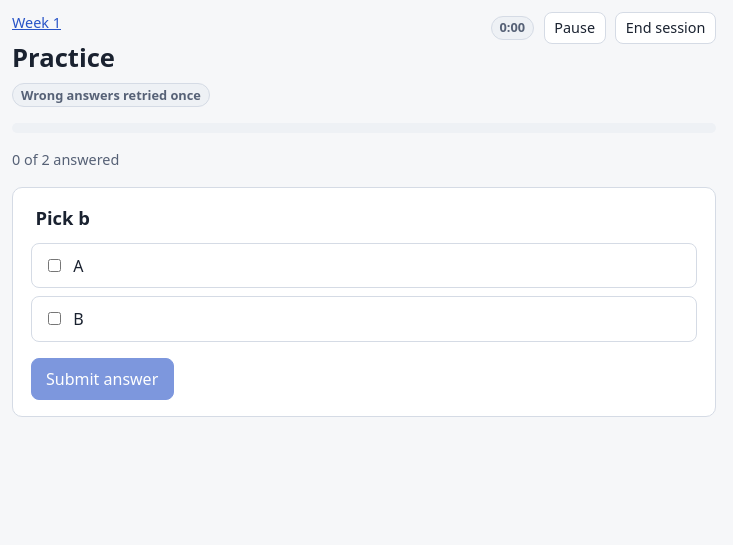
Test: requeue mode › does not mark any option right or wrong when only the verdict is known
Click the checkbox labelled "A".
click(54, 265)  # box [48, 259, 61, 272]
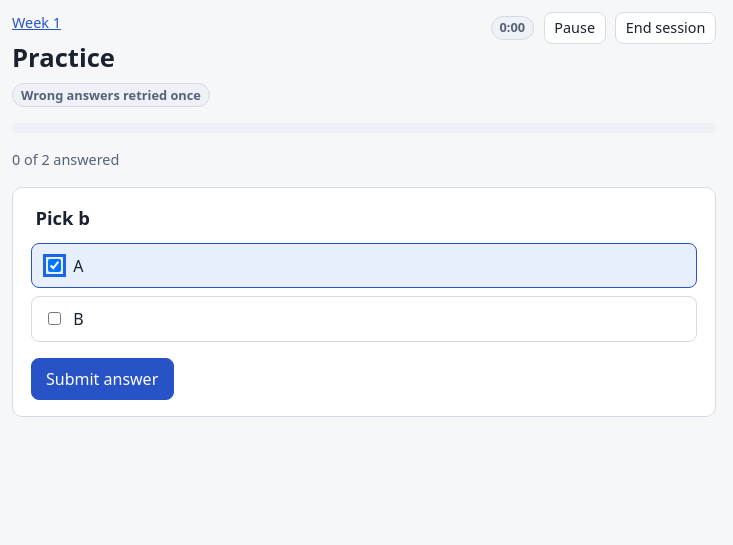
Click the button "Submit answer".
click(102, 379)  # box [31, 358, 174, 400]
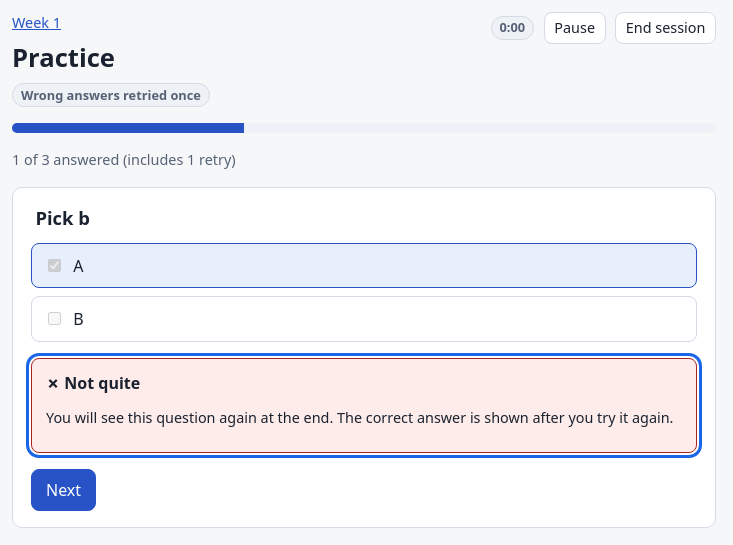
Result: the text "✗ Not quite" is shown at [46, 372, 140, 394]
